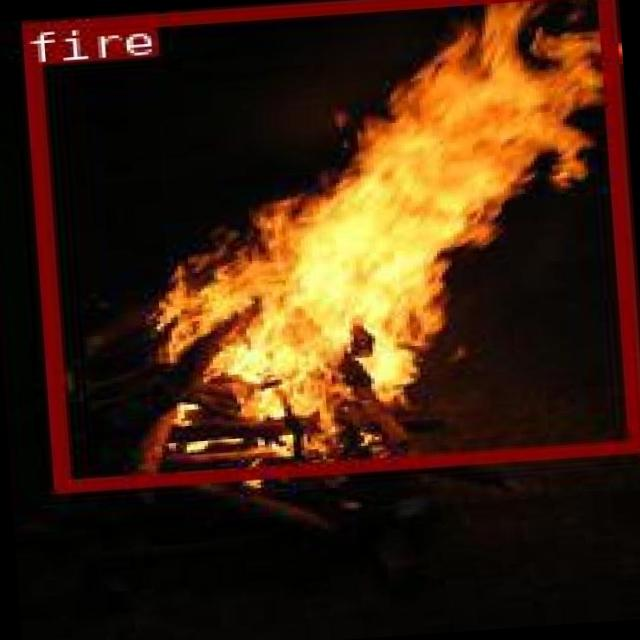fire: (20, 0, 640, 490)
